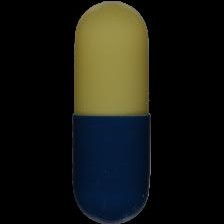50436-9982: (0, 0, 224, 224)
